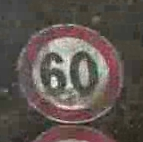limite 60: (11, 21, 128, 126)
